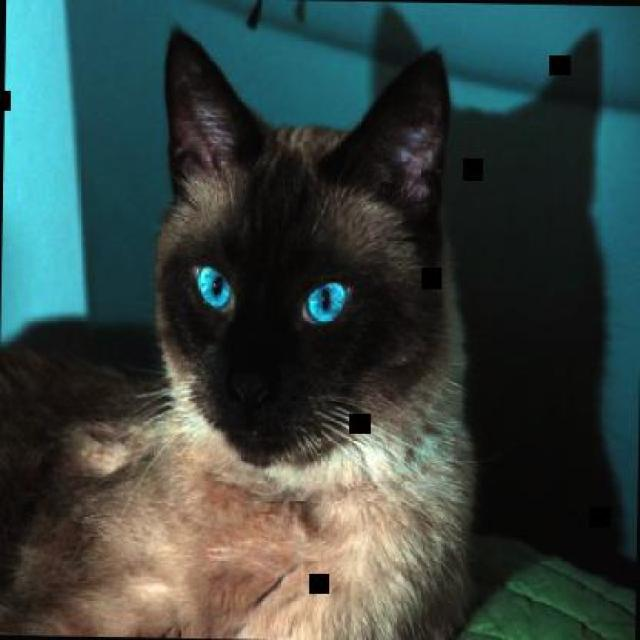cat: (0, 21, 485, 638)
